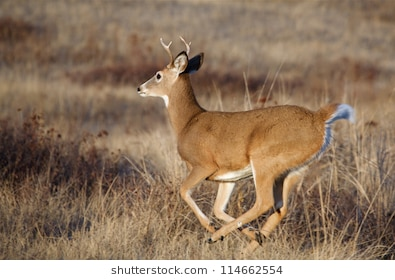Deer: (135, 37, 368, 247)
